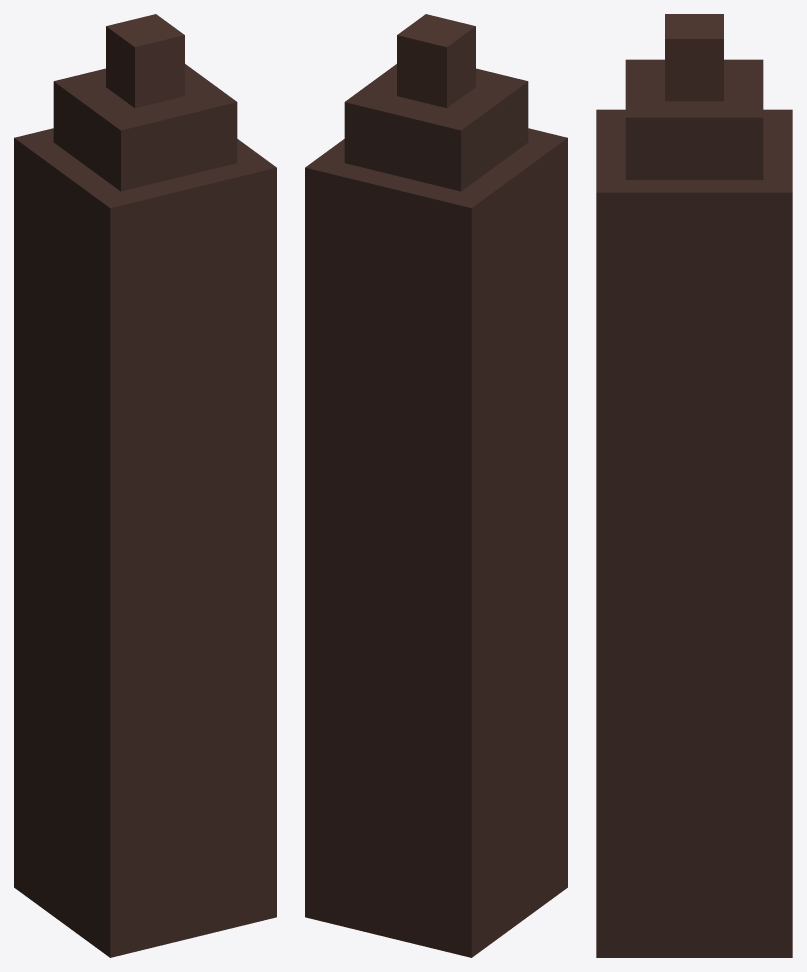
File: wall_pillar.glb
3 renders of one model, left to right at view 1: azimuth 30°, elevation 25°; view 2: azimuth 150°, elevation 25°; view 3: azimuth 270°, elevation 25°, orthographic. The views are drawn at different scales.
Visible parts, largest first — view 1: wall_pillar; view 2: wall_pillar; view 3: wall_pillar.
Boxes of the visible parts, x1=… form: wall_pillar: x1=14, y1=14, x2=276, y2=957; wall_pillar: x1=305, y1=14, x2=567, y2=957; wall_pillar: x1=596, y1=14, x2=792, y2=957.
Bounding box in the file's own units: 1 × 5 × 1.
